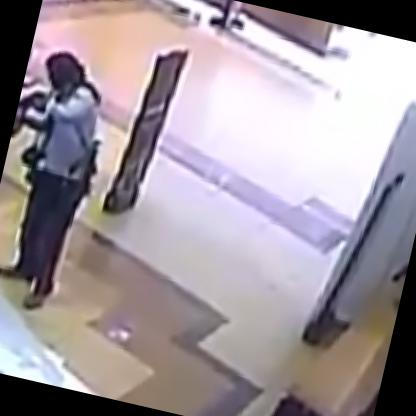Human Body: (0, 45, 116, 316)
